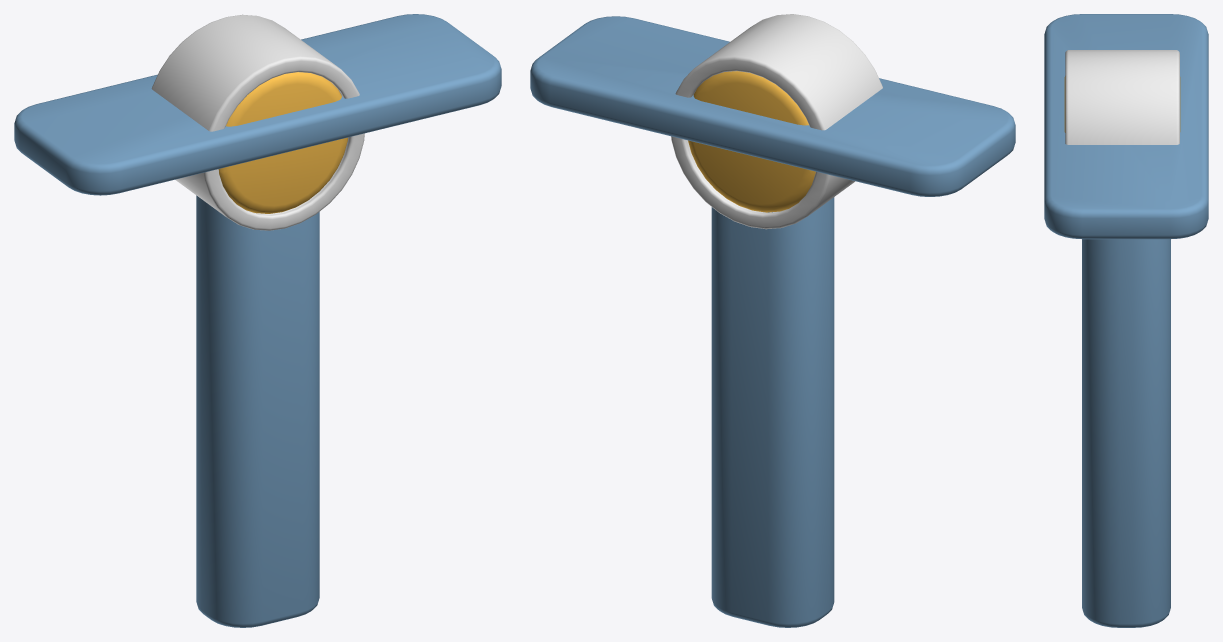
Rendered from SM_Building_UpScreen.fbx.
The picture shows the model from 3 angles, left to right: view 1: azimuth 30°, elevation 25°; view 2: azimuth 150°, elevation 25°; view 3: azimuth 270°, elevation 25°; orthographic projection. The views are drawn at different scales.
Parts seen in each view (by area): view 1: UpScreen_01, SM_Building_UpScreen, UpScreen_02; view 2: UpScreen_01, SM_Building_UpScreen, UpScreen_02; view 3: UpScreen_01, SM_Building_UpScreen, UpScreen_02.
Boxes of the visible parts, left/top/right/bottom form: UpScreen_01: left=196, top=195, right=319, bottom=627; SM_Building_UpScreen: left=14, top=14, right=501, bottom=195; UpScreen_02: left=151, top=14, right=364, bottom=230; UpScreen_01: left=711, top=197, right=834, bottom=627; SM_Building_UpScreen: left=530, top=16, right=1015, bottom=196; UpScreen_02: left=671, top=14, right=882, bottom=229; UpScreen_01: left=1082, top=239, right=1170, bottom=627; SM_Building_UpScreen: left=1044, top=14, right=1208, bottom=239; UpScreen_02: left=1064, top=50, right=1180, bottom=144.
Size of the model in its own units: 2 by 2.54 by 0.6919.
